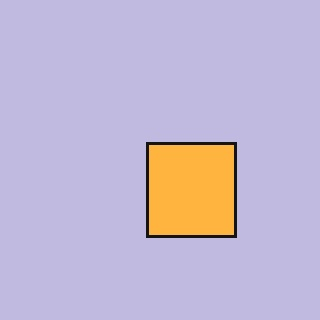square_target: (146, 142, 236, 238)
